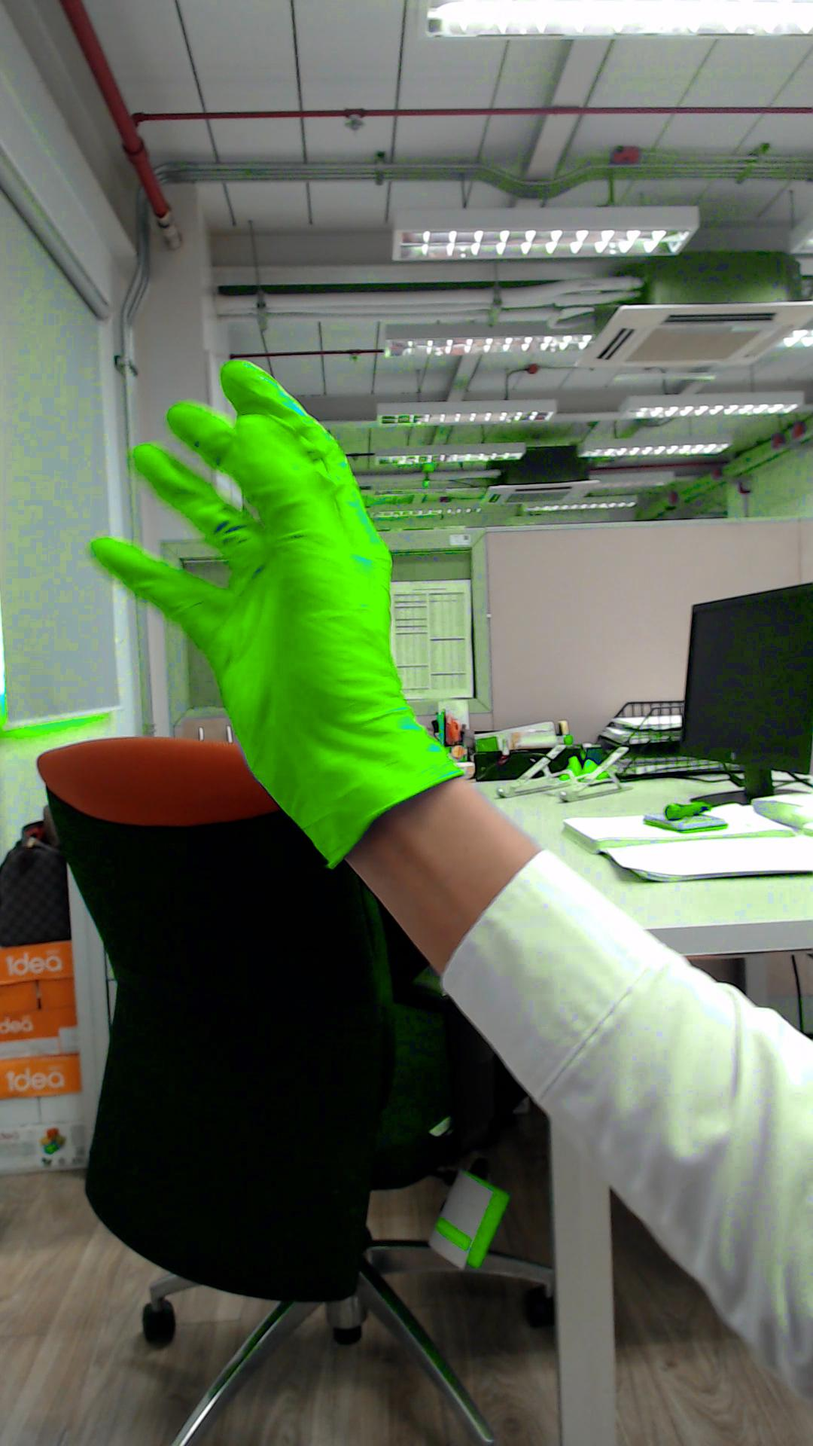gloves: (80, 343, 407, 727)
